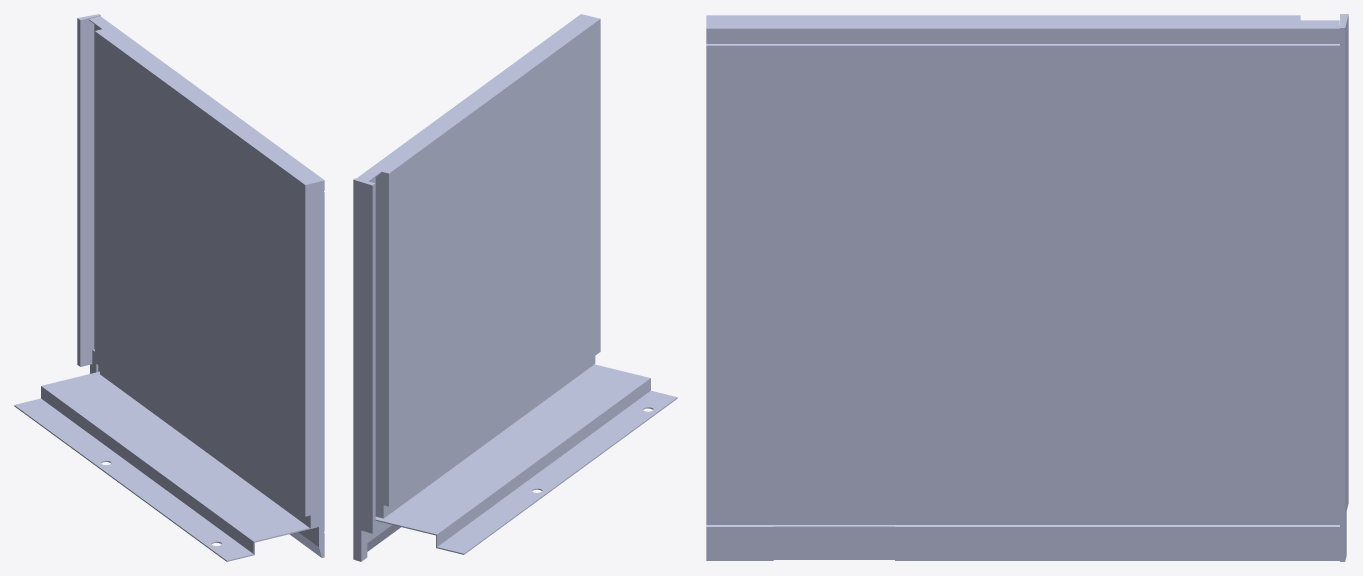
Rendered from lg-kava-F270-m.glb.
3 views of the same model, side by side, from view 1: azimuth 30°, elevation 25°; view 2: azimuth 150°, elevation 25°; view 3: azimuth 270°, elevation 25° (orthographic). The views are drawn at different scales.
Parts seen in each view (by area): view 1: 45033937; view 2: 45033937; view 3: 45033937.
Part boxes in pixels (bbox=[...]): 45033937: bbox=[14, 14, 324, 561]; 45033937: bbox=[353, 14, 677, 561]; 45033937: bbox=[706, 14, 1348, 561].
Bounding box in the file's own units: 0.0653 × 0.2417 × 0.2635.
